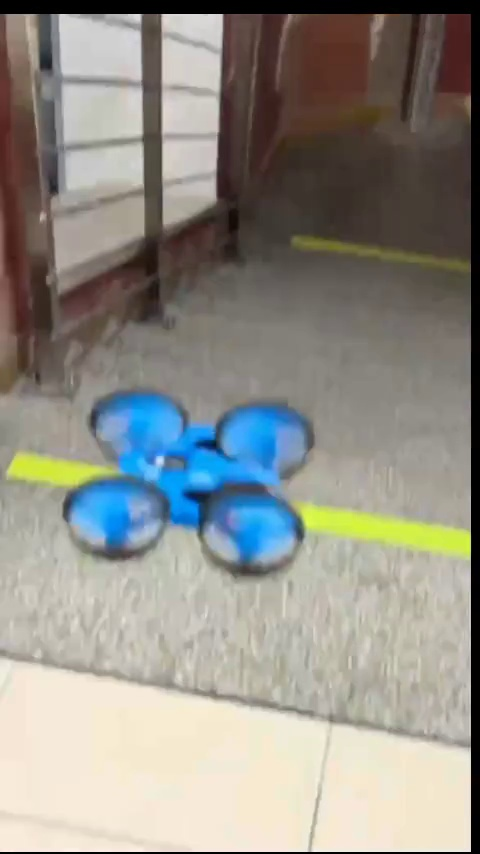drone: (66, 388, 312, 566)
